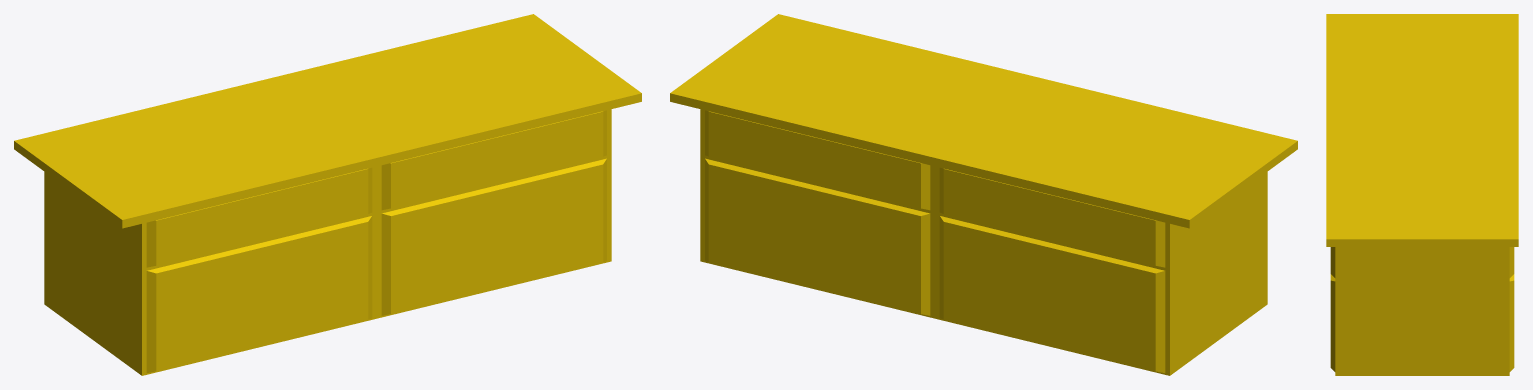
The model's file is Kitchen_Counter_2.FBX.
The picture shows the model from 3 angles, left to right: view 1: azimuth 30°, elevation 25°; view 2: azimuth 150°, elevation 25°; view 3: azimuth 270°, elevation 25°; orthographic projection. The views are drawn at different scales.
Parts seen in each view (by area): view 1: Box008; view 2: Box008; view 3: Box008.
Boxes of the visible parts, left/top/right/bottom form: Box008: left=14, top=14, right=641, bottom=375; Box008: left=670, top=14, right=1297, bottom=375; Box008: left=1326, top=14, right=1518, bottom=375.
Size of the model in its own units: 4.49 by 1.37 by 1.62.
